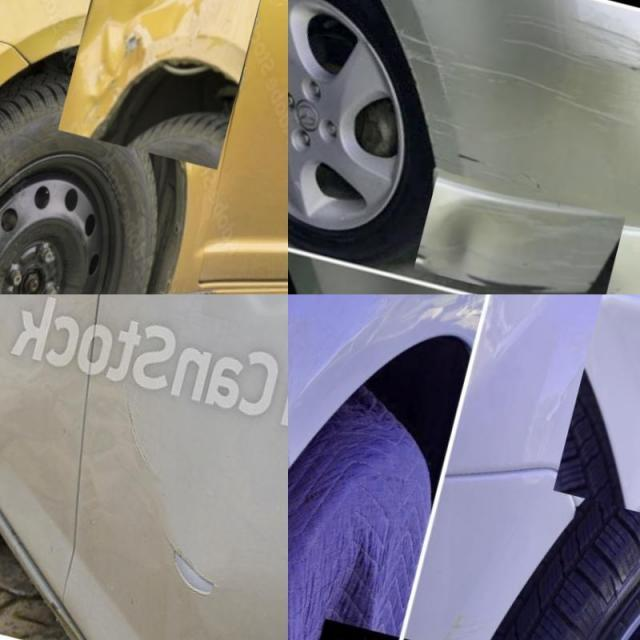car damage: (71, 0, 248, 125), (418, 189, 524, 291), (356, 287, 486, 354), (162, 539, 222, 602), (121, 404, 164, 491), (458, 151, 483, 168), (618, 60, 640, 74)
